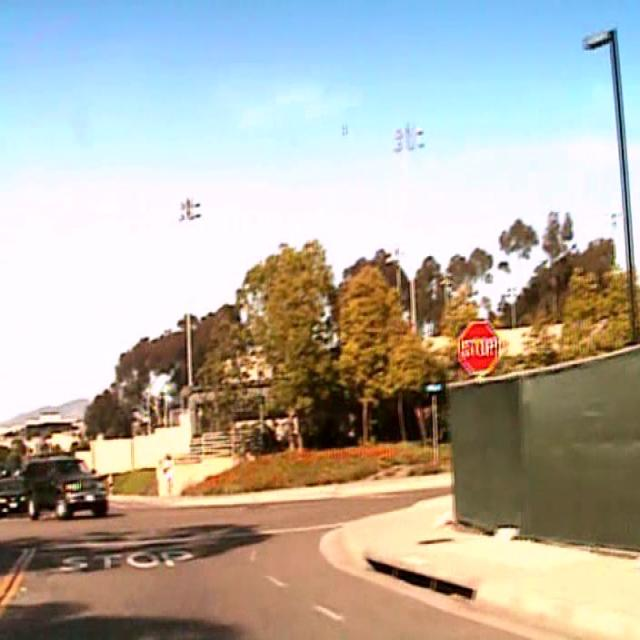stop_sign: (457, 320, 499, 373)
